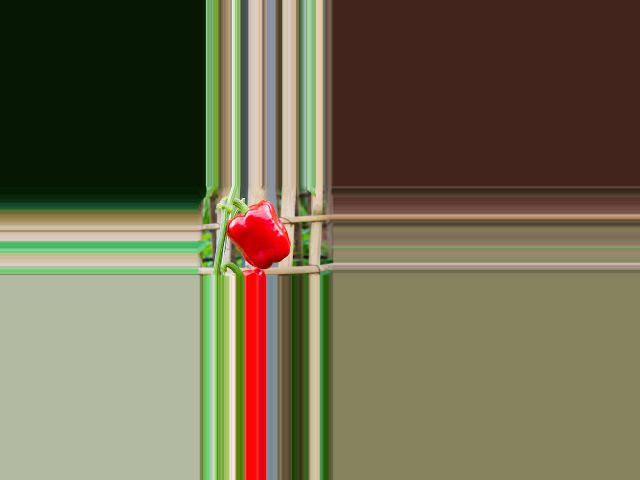bell_pepper: (221, 200, 295, 268)
